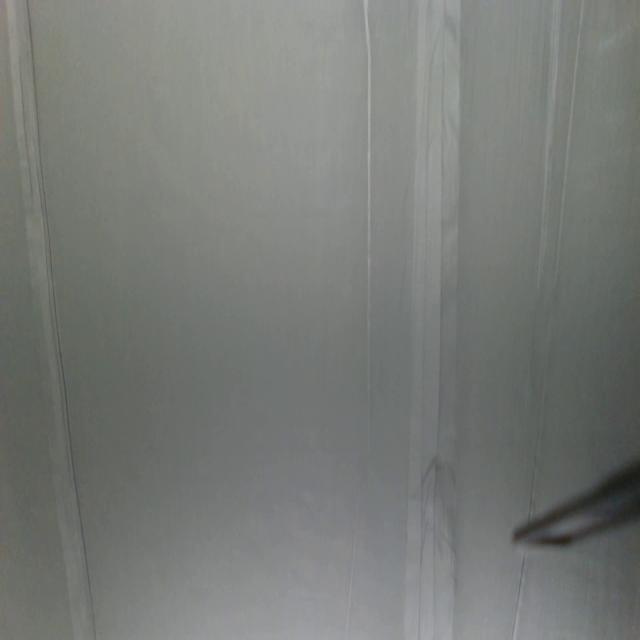crease: (6, 0, 97, 640), (401, 0, 464, 639), (522, 0, 586, 499), (343, 0, 376, 633), (509, 549, 529, 640)
